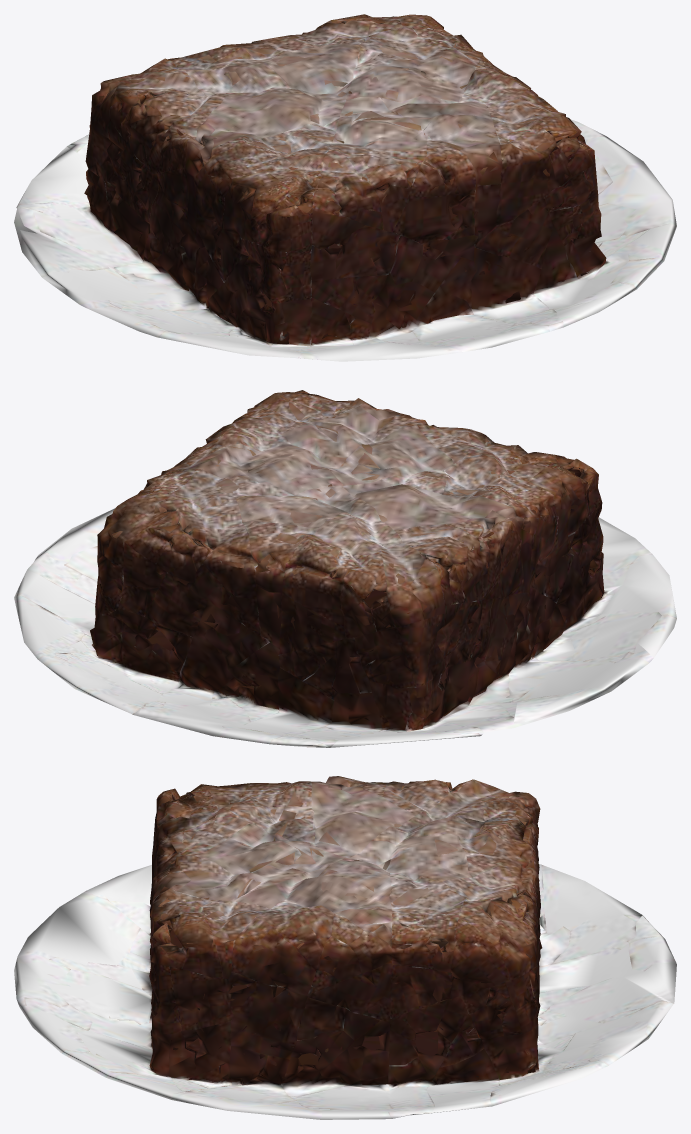
File: chocolate-brownie-sv.glb
3 views of the same model, one above another, from view 1: azimuth 30°, elevation 25°; view 2: azimuth 150°, elevation 25°; view 3: azimuth 270°, elevation 25° (orthographic).
Parts seen in each view (by area): view 1: mesh_node; view 2: mesh_node; view 3: mesh_node.
Part boxes in pixels (<box>): mesh_node: <box>14,14,676,361</box>; mesh_node: <box>14,390,676,747</box>; mesh_node: <box>14,776,676,1119</box>.
Bounding box in the file's own units: 0.0161 × 0.00465 × 0.0161.
1 material, 1 textured.
